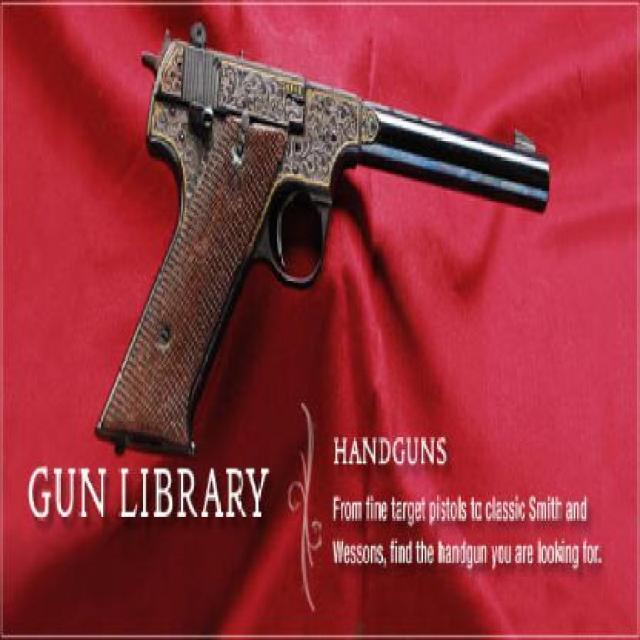gun: (83, 21, 551, 454)
